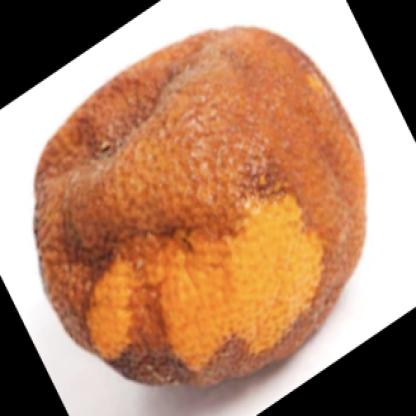rotten: (35, 24, 367, 383)
